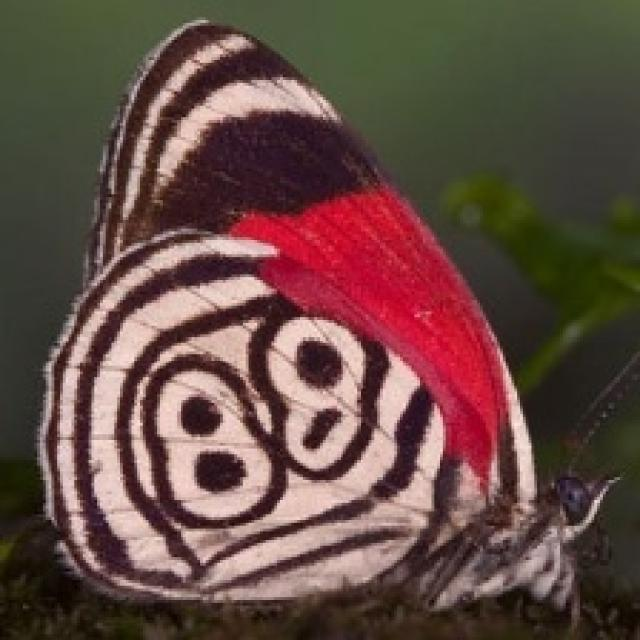butterfly: (34, 14, 637, 629)
